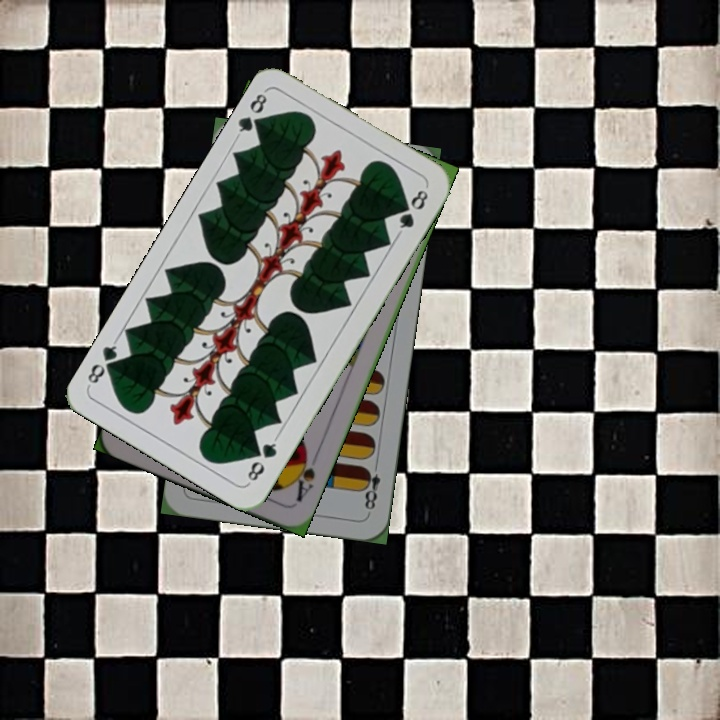E8: (358, 457, 383, 516)
G8: (232, 87, 270, 140), (243, 433, 280, 486)
SA: (287, 446, 318, 505)
